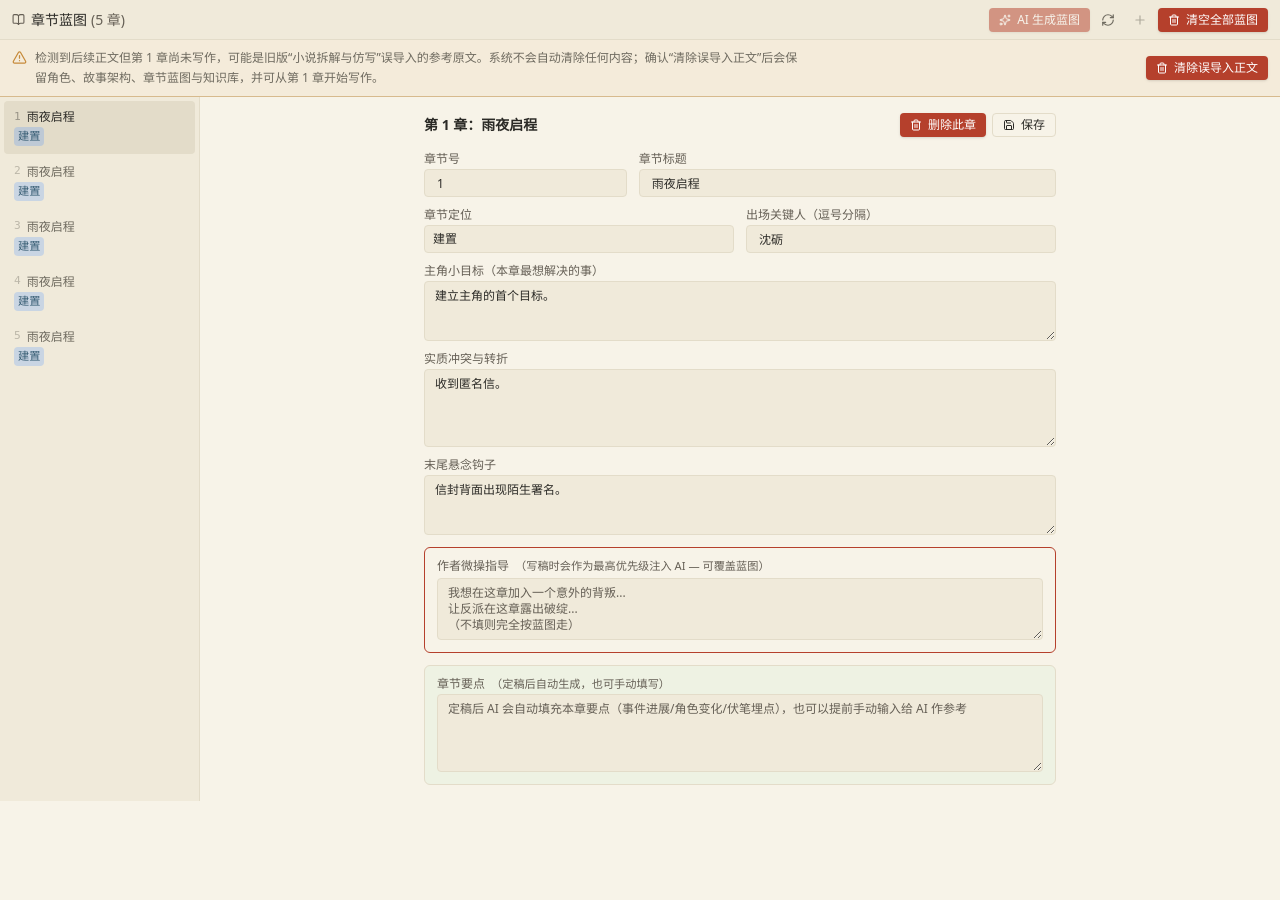
it: ChapterCardEditor writing entry › requires explicit recovery before writing Chapter 1 when legacy-imported finalized text exists for Chapters 2 through 5
This screenshot has width=1280, height=900.
Check: the text "写作第1章" is not shown
What coordinates should you click on to do the following:
click the button "清除误导入正文"
I would click on:
 (1207, 68)
Its box is [1146,56,1268,80].
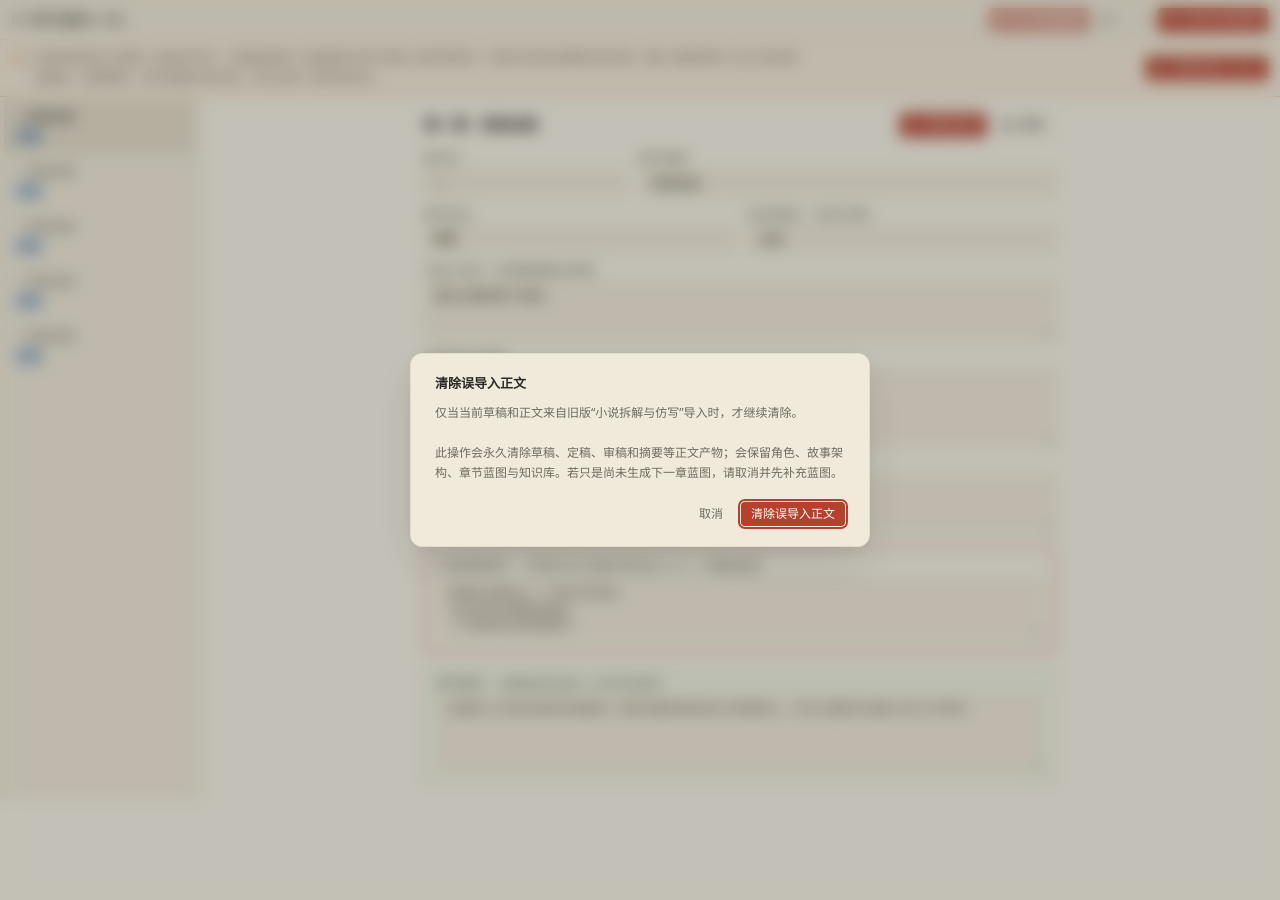
Check: the dialog is shown, box [410,353,870,547]
Check: the button "清除误导入正文" is shown
What coordinates should you click on to do the following:
click the button "清除误导入正文"
I would click on:
 (793, 514)
Its box is [741,502,845,526].
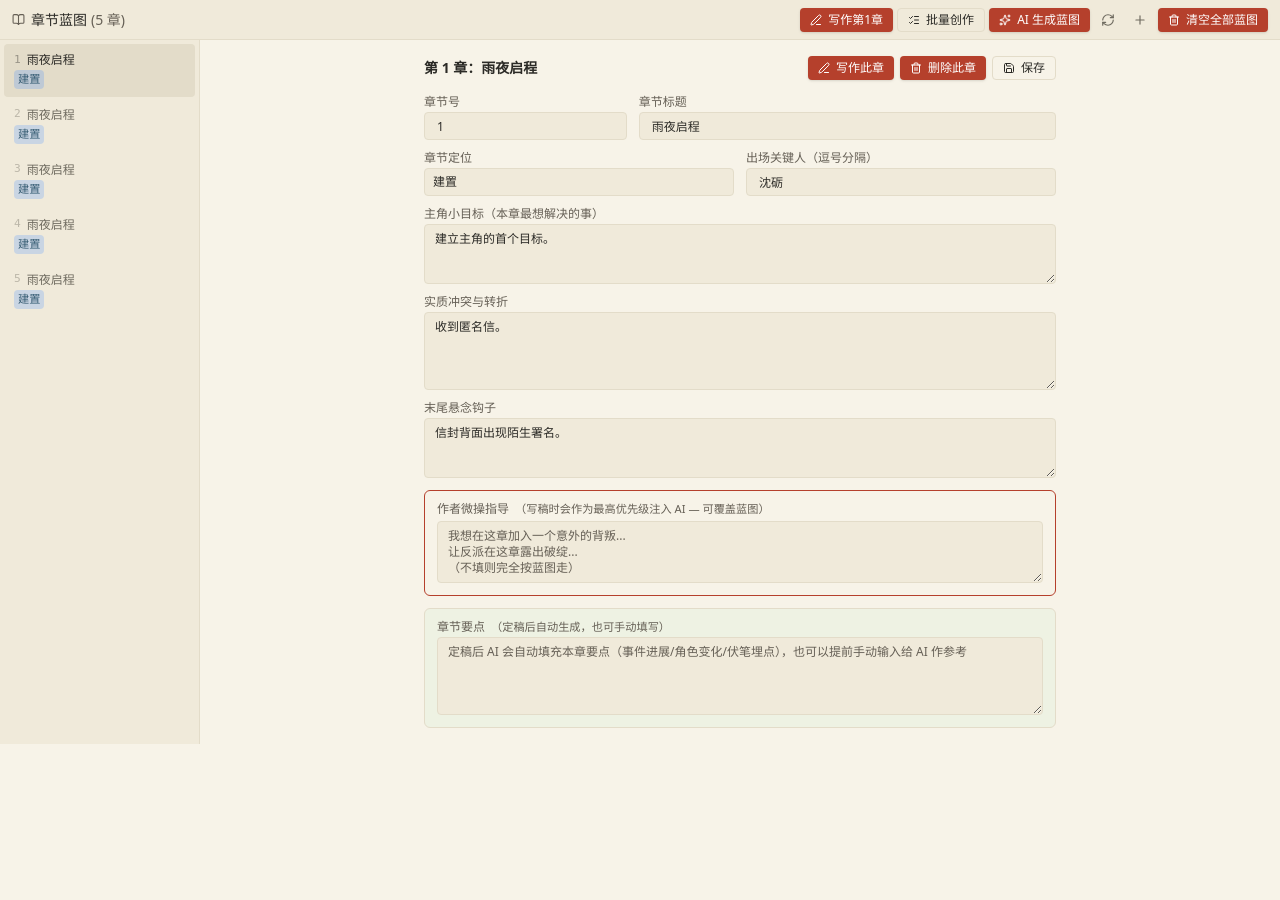
Check: the text "写作第1章" is shown, box [800,8,893,32]
Check: the text "检测到后续正文但第 1 章尚未写作" is gone
